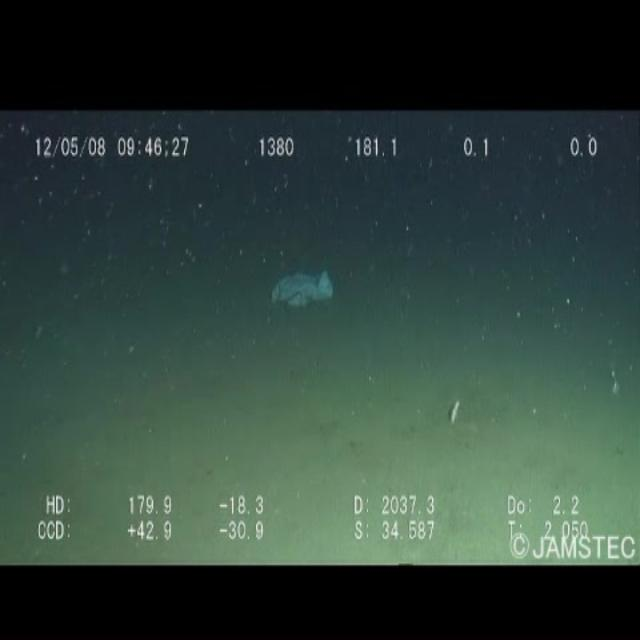Plastic: (258, 252, 350, 315)
